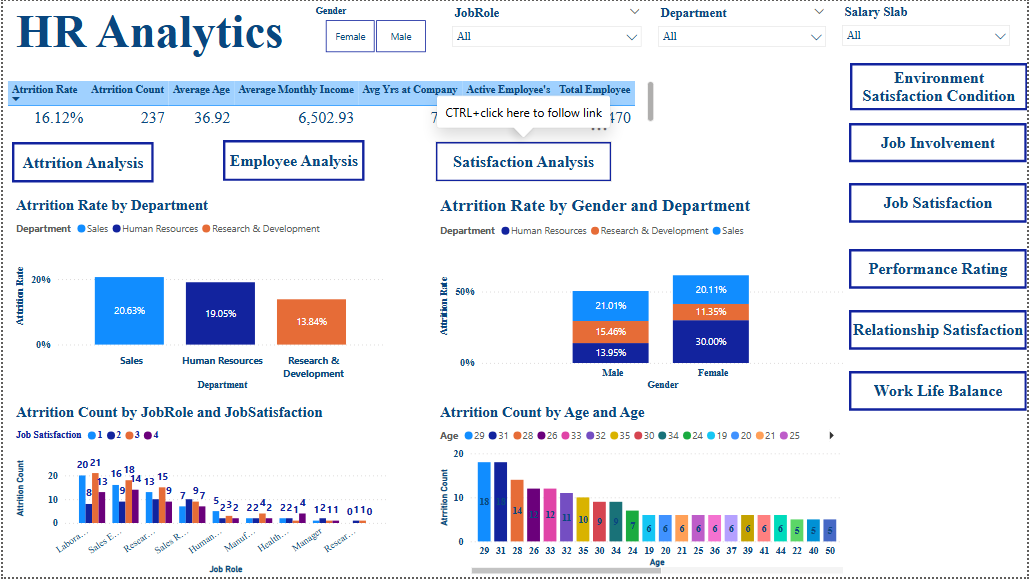

What the dashboard file says about the page in this screenshot:
{"tool":"powerbi","page":{"name":"HR Analysis","canvas":[1280,720],"ordinal":0},"visuals":[{"type":"textbox","box":[10.7,0,354.3,77.3],"z":0},{"type":"slicer","fields":{"Values":["HR-Employee-Attrition.Gender"]},"box":[376.9,0,174.5,70.6],"z":1000},{"type":"slicer","fields":{"Values":["HR-Employee-Attrition.JobRole"]},"box":[551.4,1.3,257.1,69.3],"z":2000},{"type":"slicer","fields":{"Values":["HR-Employee-Attrition.Department"]},"box":[808.5,1.3,230.4,69.3],"z":3000},{"type":"slicer","fields":{"Values":["HR-Employee-Attrition.Salary Slab"]},"box":[1038.9,0,230.4,69.3],"z":4000},{"type":"tableEx","fields":{"Values":["HR Measures.Atrrition Rate","HR Measures.Atrrition Count","HR Measures.Average Age","HR Measures.Average Monthly Income","HR Measures.Average Years at Company","HR Measures.Count of Active Employee's","HR Measures.Employee Count"]},"box":[0,94.6,819.1,66.6],"z":5000},{"type":"actionButton","box":[10.7,175.8,177.1,50.6],"z":6000},{"type":"actionButton","box":[275.4,174.2,176.9,51.3],"z":7000},{"type":"columnChart","title":"Atrrition Rate by Department ","fields":{"Y":["HR Measures.Atrrition Rate"],"Category":["HR-Employee-Attrition.Department"],"Series":["HR-Employee-Attrition.Department"]},"box":[10.7,243.7,472.8,247.7],"z":8000},{"type":"columnChart","fields":{"Y":["HR Measures.Atrrition Rate"],"Category":["HR-Employee-Attrition.Gender"],"Series":["HR-Employee-Attrition.Department"]},"box":[540.8,243.7,514.1,247.7],"z":9000},{"type":"clusteredColumnChart","fields":{"Y":["HR Measures.Atrrition Count"],"Category":["HR-Employee-Attrition.JobRole"],"Series":["HR-Employee-Attrition.JobSatisfaction"]},"box":[11,502,473,218],"z":10000},{"type":"columnChart","fields":{"Category":["HR-Employee-Attrition.Age"],"Y":["HR Measures.Atrrition Count"],"Series":["HR-Employee-Attrition.Age"]},"box":[541,502,514,218],"z":11000},{"type":"actionButton","box":[540.1,175.5,221.4,51.3],"z":15000},{"type":"actionButton","box":[1058.4,77.5,222.2,59.2],"z":16000},{"type":"actionButton","box":[1058,152,222.2,49],"z":18000},{"type":"actionButton","box":[1057.5,227.6,222.5,49.6],"z":20000},{"type":"actionButton","box":[1057.5,309.7,222.5,49.6],"z":22000},{"type":"actionButton","box":[1057.5,386.7,222.5,49.6],"z":24000},{"type":"actionButton","box":[1057.5,462,222.5,49.6],"z":26000}]}

Visuals, with their boxes in screenshot pixels (x1, y1, x2, y2), scaled from the page's 1280x720 canvas onto the 1030x581 screenshot:
textbox: bbox=(9, 0, 294, 62)
slicer - HR-Employee-Attrition.Gender: bbox=(303, 0, 444, 57)
slicer - HR-Employee-Attrition.JobRole: bbox=(444, 1, 651, 57)
slicer - HR-Employee-Attrition.Department: bbox=(651, 1, 836, 57)
slicer - HR-Employee-Attrition.Salary Slab: bbox=(836, 0, 1021, 56)
tableEx - HR Measures.Atrrition Rate x HR Measures.Atrrition Count: bbox=(0, 76, 659, 130)
actionButton: bbox=(9, 142, 151, 183)
actionButton: bbox=(222, 141, 364, 182)
"Atrrition Rate by Department " columnChart: bbox=(9, 197, 389, 397)
columnChart - HR Measures.Atrrition Rate x HR-Employee-Attrition.Gender: bbox=(435, 197, 849, 397)
clusteredColumnChart - HR Measures.Atrrition Count x HR-Employee-Attrition.JobRole: bbox=(9, 405, 389, 580)
columnChart - HR-Employee-Attrition.Age x HR Measures.Atrrition Count: bbox=(435, 405, 849, 580)
actionButton: bbox=(435, 142, 613, 183)
actionButton: bbox=(852, 63, 1029, 110)
actionButton: bbox=(851, 123, 1029, 162)
actionButton: bbox=(851, 184, 1029, 224)
actionButton: bbox=(851, 250, 1029, 290)
actionButton: bbox=(851, 312, 1029, 352)
actionButton: bbox=(851, 373, 1029, 413)
